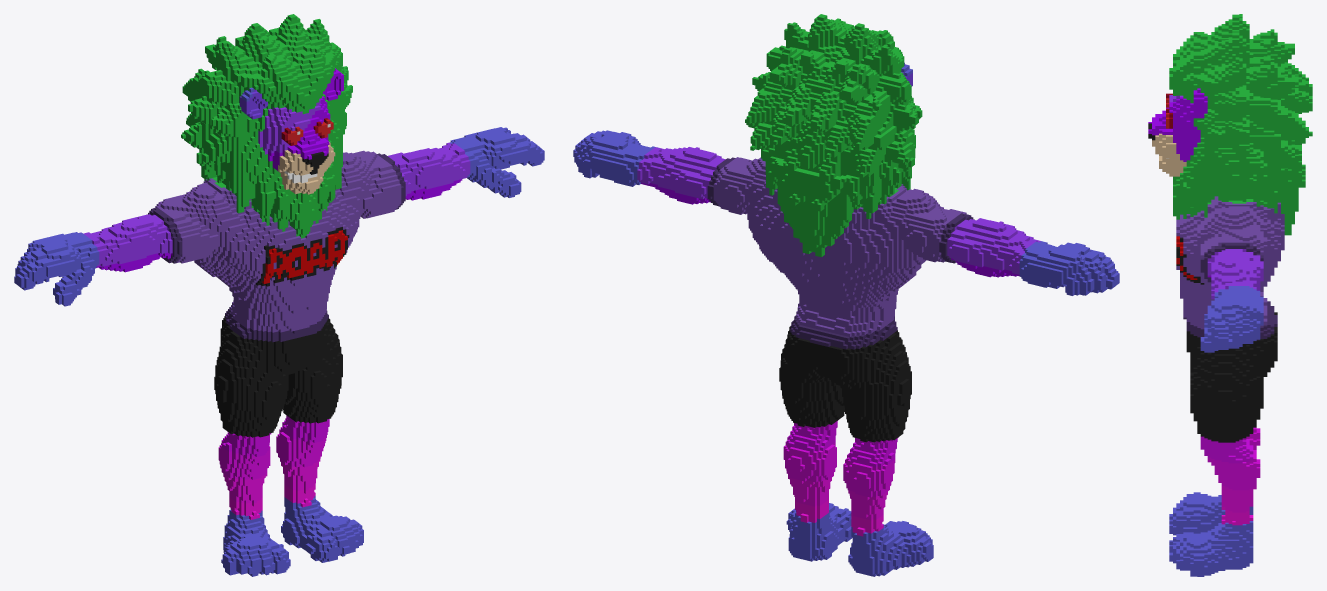
Rendered from 908-Bl5Y1aTc.glb.
3 renders of one model, left to right at view 1: azimuth 30°, elevation 25°; view 2: azimuth 150°, elevation 25°; view 3: azimuth 270°, elevation 25°, orthographic. The views are drawn at different scales.
Parts seen in each view (by area): view 1: grin; view 2: grin; view 3: grin.
Boxes of the visible parts, <box> form: grin: <box>14,14,544,576</box>; grin: <box>573,14,1119,576</box>; grin: <box>1148,14,1312,576</box>.
Size of the model in its own units: 17.2 by 16.5 by 4.7.
5 materials, 5 textured.
